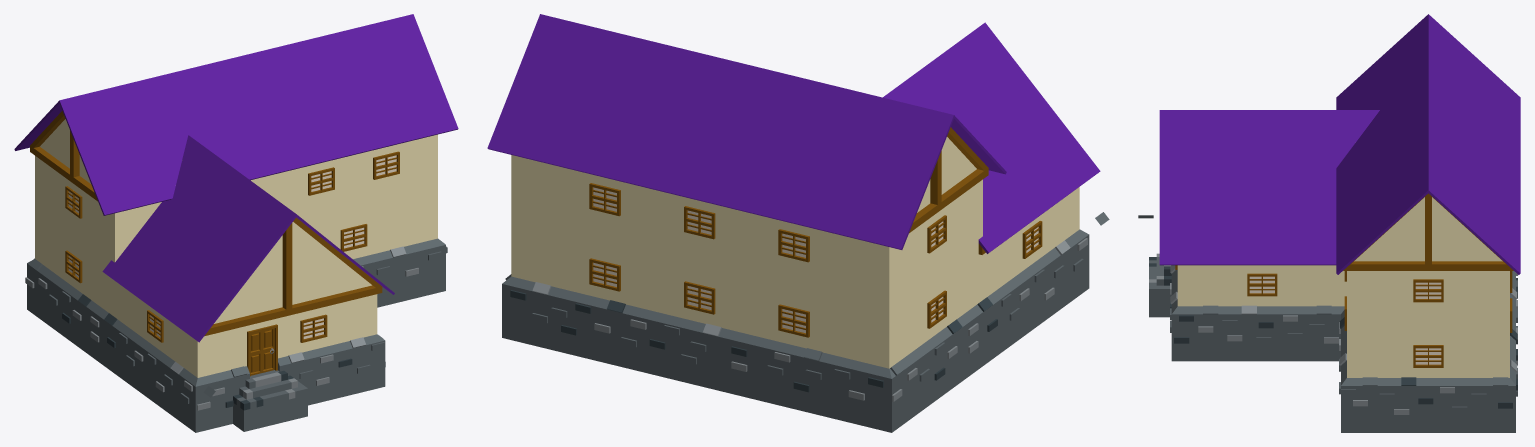
File: Cazona.fbx
The picture shows the model from 3 angles, left to right: view 1: azimuth 30°, elevation 25°; view 2: azimuth 150°, elevation 25°; view 3: azimuth 270°, elevation 25°; orthographic projection. The views are drawn at different scales.
Visible parts, largest first — view 1: House body, Roof high, Roof low, Windows, Door; view 2: House body, Roof high, Roof low, Windows; view 3: House body, Roof high, Roof low, Windows.
Boxes of the visible parts, x1,y1,x2,y2 form: House body: (25, 134, 447, 432); Roof high: (14, 14, 458, 215); Roof low: (102, 135, 394, 342); Windows: (65, 151, 399, 342); Door: (247, 324, 277, 376); House body: (502, 155, 1109, 432); Roof high: (487, 14, 1006, 249); Roof low: (883, 22, 1100, 254); Windows: (589, 183, 1042, 337); House body: (1138, 215, 1517, 432); Roof high: (1336, 14, 1520, 274); Roof low: (1159, 110, 1379, 265); Windows: (1175, 265, 1512, 367).
Size of the model in its own units: 1725 by 1132 by 1581.
